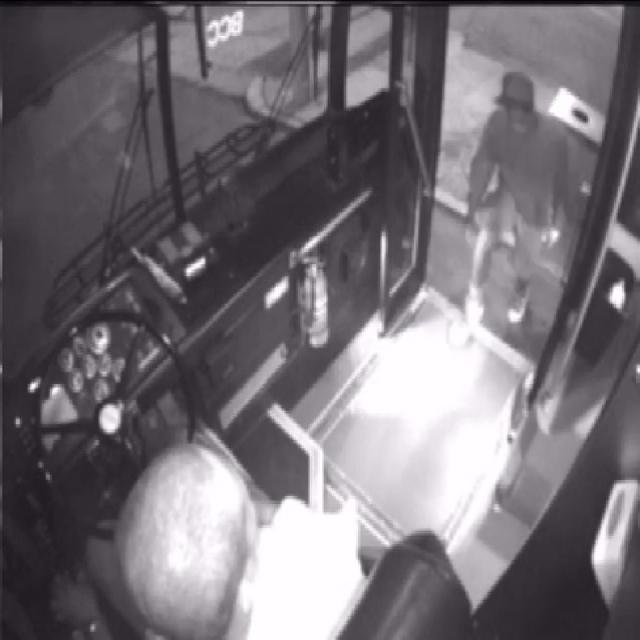bus-door: (392, 7, 631, 400)
